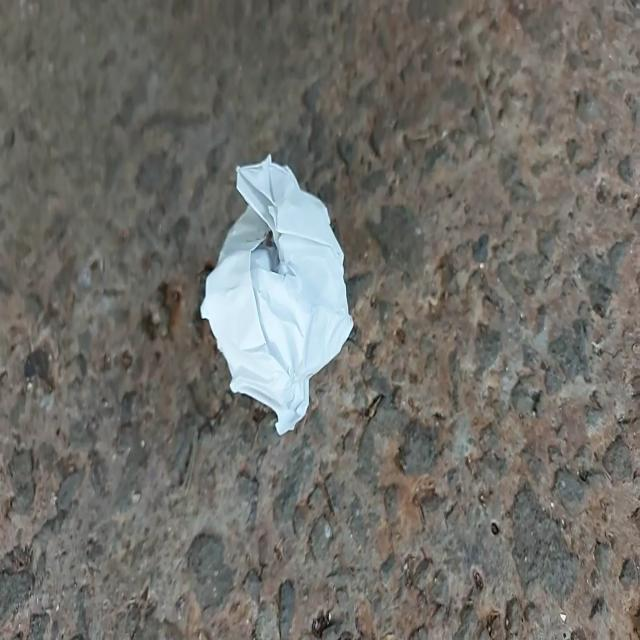paper: (178, 126, 368, 447)
